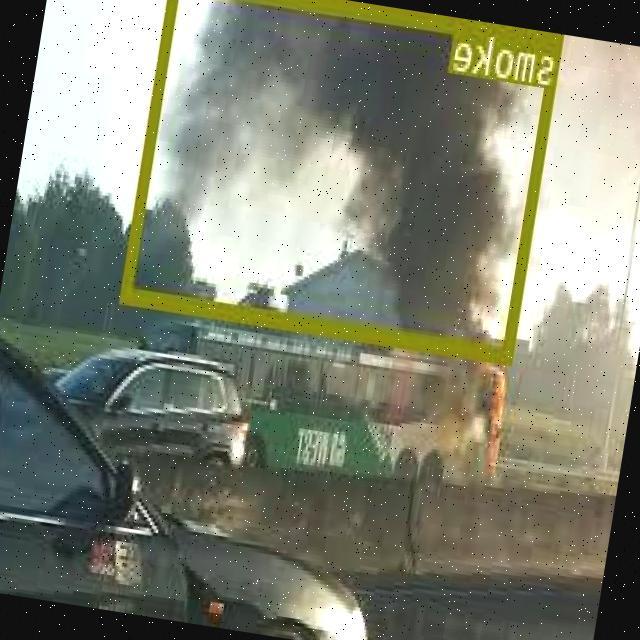smoke: (123, 0, 566, 360)
